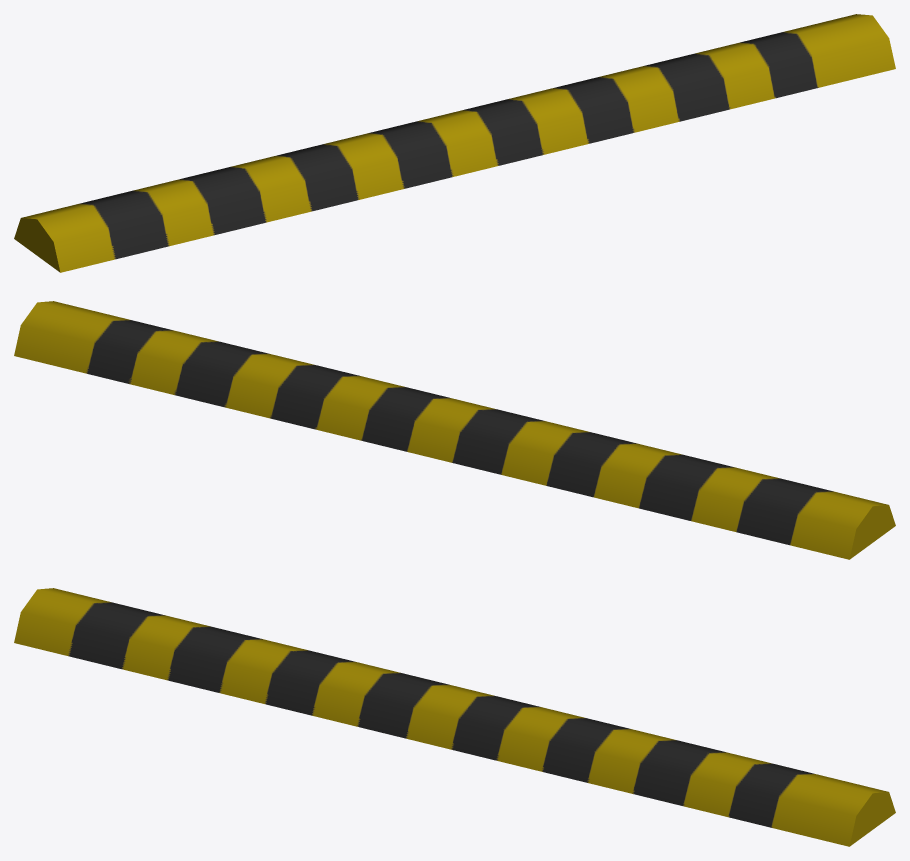
File: Parking_Bump_S.fbx
3 views of the same model, one above another, from view 1: azimuth 30°, elevation 25°; view 2: azimuth 150°, elevation 25°; view 3: azimuth 330°, elevation 25° (orthographic).
Visible parts, largest first — view 1: Parking_bump_S; view 2: Parking_bump_S; view 3: Parking_bump_S.
Part boxes in pixels (x1,y1,x2,y2): Parking_bump_S: [14, 14, 895, 272]; Parking_bump_S: [14, 301, 895, 559]; Parking_bump_S: [14, 588, 895, 846].
Size of the model in its own units: 451 by 18.88 by 43.49.
Materials: 1 (1 with a texture image).
